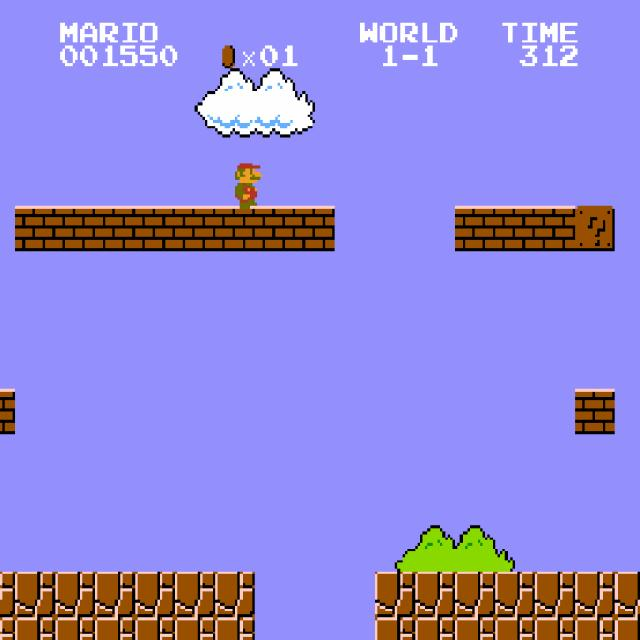brick_block: (15, 206, 55, 251), (55, 206, 95, 251), (95, 206, 135, 251), (135, 206, 175, 251), (175, 206, 215, 251), (215, 206, 255, 251), (255, 206, 295, 251), (295, 206, 335, 251), (455, 206, 495, 251), (495, 206, 535, 251), (535, 206, 575, 251), (575, 389, 615, 434), (0, 389, 15, 434)
little_mario: (225, 160, 268, 208)
mystery_block: (575, 206, 615, 251)
undestructible_block: (15, 572, 55, 617), (55, 572, 95, 617), (95, 572, 135, 617), (135, 572, 175, 617), (175, 572, 215, 617), (215, 572, 255, 617), (375, 572, 415, 617), (415, 572, 455, 617), (455, 572, 495, 617), (495, 572, 535, 617), (535, 572, 575, 617), (575, 572, 615, 617), (614, 571, 640, 617), (15, 617, 55, 640), (55, 617, 95, 640), (95, 617, 135, 640), (135, 617, 175, 640), (175, 617, 215, 640), (215, 617, 255, 640), (375, 617, 415, 640), (415, 617, 455, 640), (455, 617, 495, 640), (495, 617, 535, 640), (535, 617, 575, 640), (575, 617, 615, 640), (0, 572, 15, 617), (614, 617, 640, 639), (0, 617, 15, 640)
